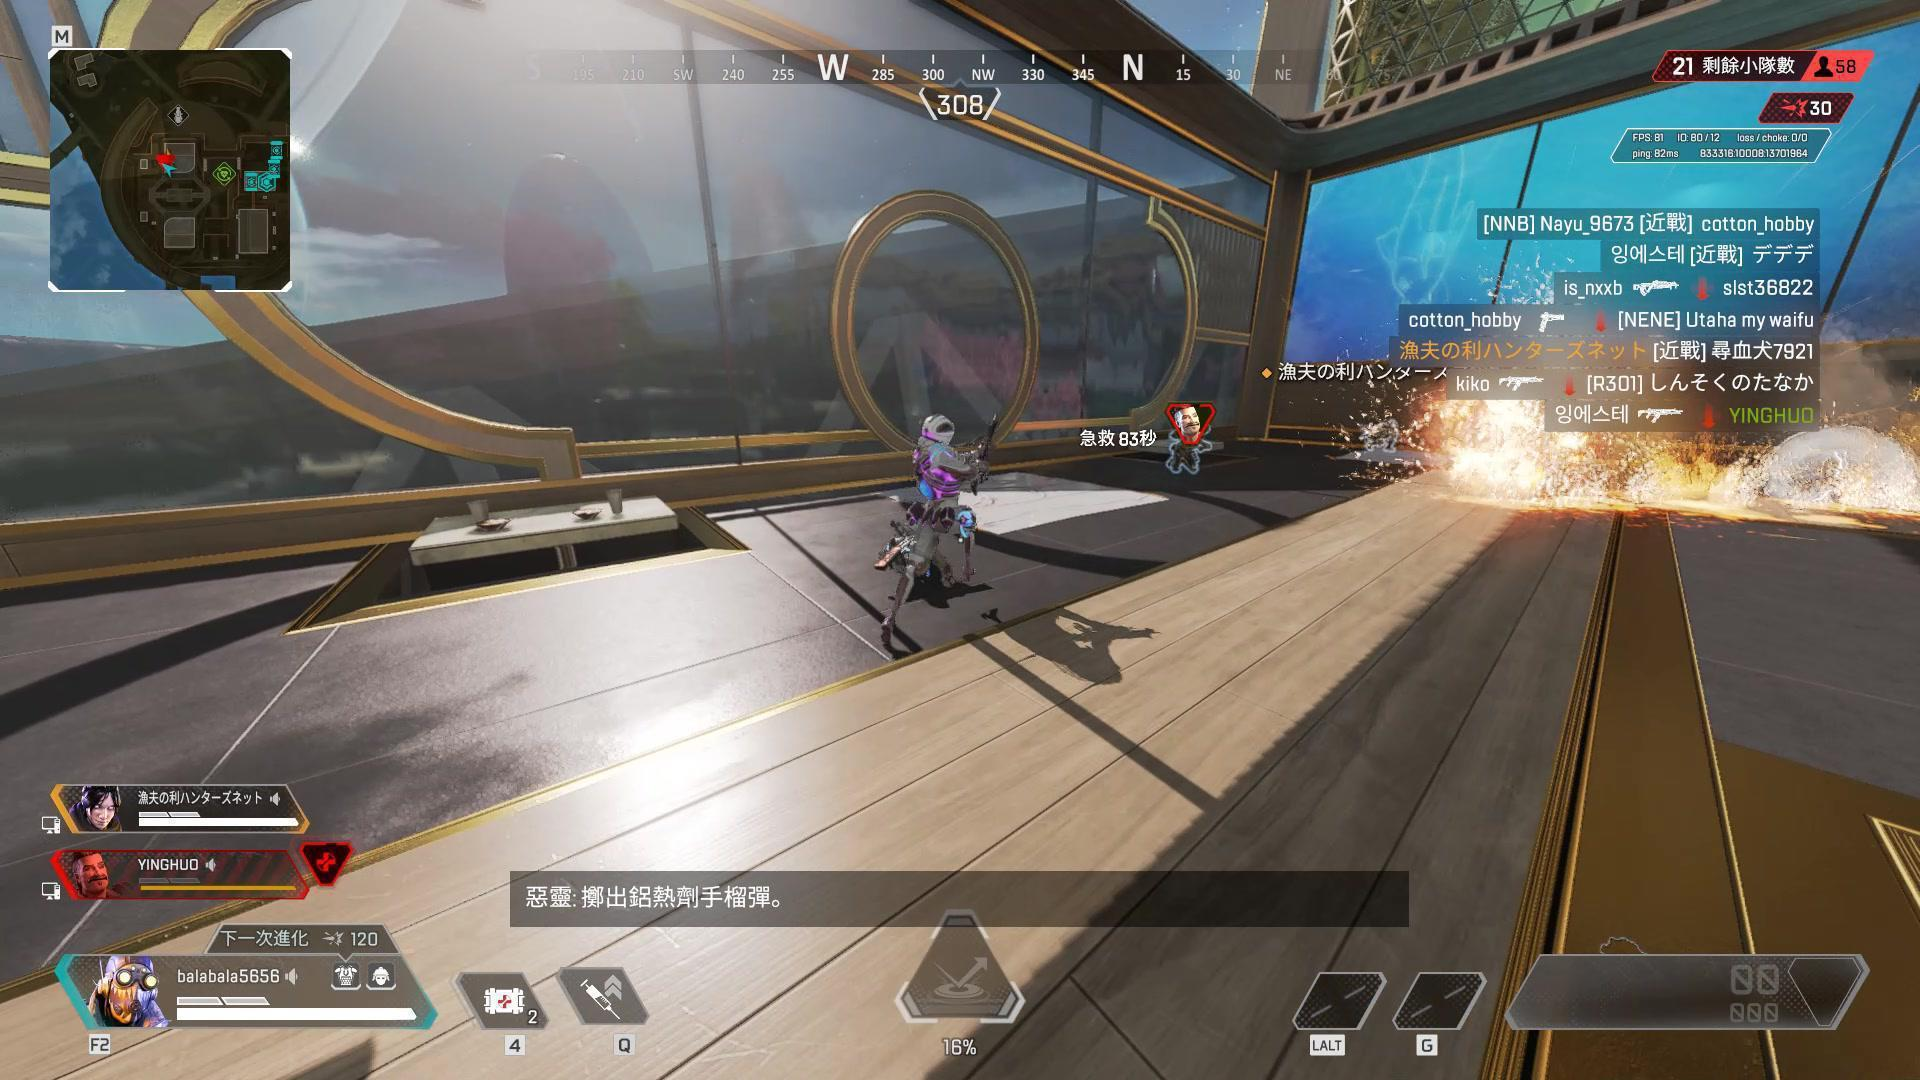avatar: (902, 413, 980, 591)
